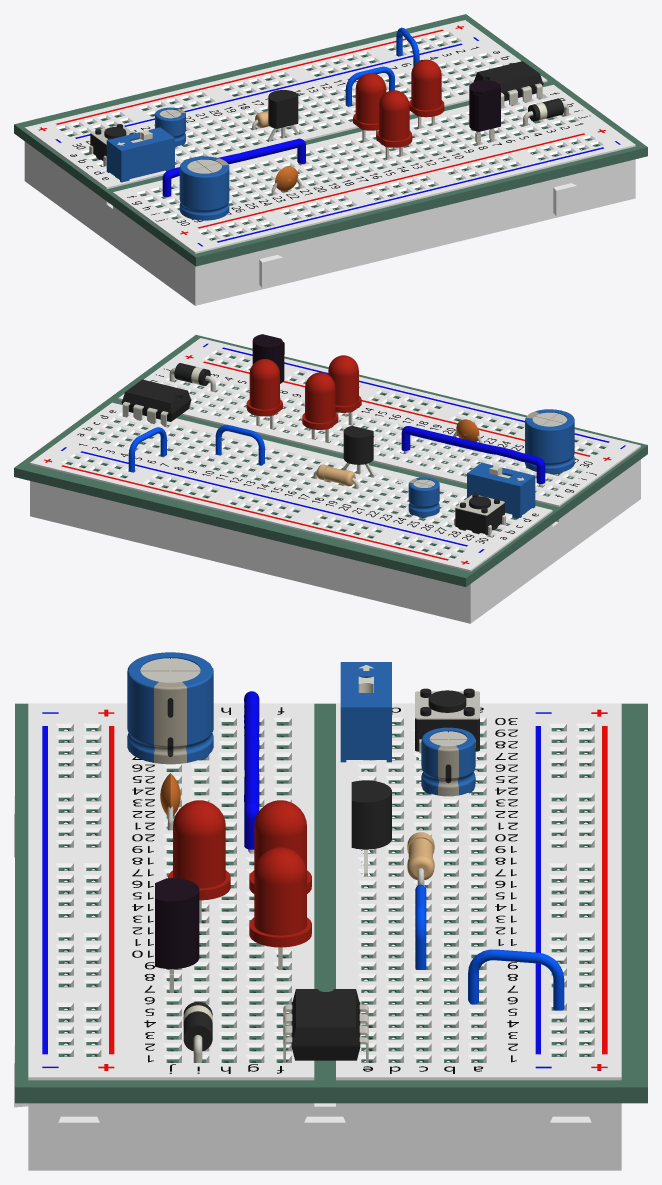
3 renders of one model, top to bottom at view 1: azimuth 30°, elevation 25°; view 2: azimuth 150°, elevation 25°; view 3: azimuth 270°, elevation 25°, orthographic. The views are drawn at different scales.
Visible parts, largest first — view 1: HalfBreadboard001, randomstuff_PCB, HalfBreadboard, CP_Radial_D80mm_P380mm, SW_DIP_SPSTx01_Slide_978x472mm_W762mm_P254mm, DIP-8_W7.62mm, LED_D5.0mm004, LED_D5.0mm, Osram_SFH205, LED_D5.0mm002, wire_25mm_Blue, TO-92_Inline_Wide (+6 smaller); view 2: HalfBreadboard001, randomstuff_PCB, HalfBreadboard, CP_Radial_D80mm_P380mm, SW_DIP_SPSTx01_Slide_978x472mm_W762mm_P254mm, DIP-8_W7.62mm, LED_D5.0mm, LED_D5.0mm002, wire_25mm_Blue, SW_PUSH_6mm_h4.3mm, LED_D5.0mm004, TO-92_Inline_Wide (+7 smaller); view 3: HalfBreadboard001, randomstuff_PCB, CP_Radial_D80mm_P380mm, HalfBreadboard, DIP-8_W7.62mm, LED_D5.0mm, SW_DIP_SPSTx01_Slide_978x472mm_W762mm_P254mm, LED_D5.0mm004, Osram_SFH205, CP_Radial_D50mm_P250mm, SW_PUSH_6mm_h4.3mm, TO-92_Inline_Wide (+7 smaller).
Boxes of the visible parts, bbox=[...] form: HalfBreadboard001: bbox=[24, 20, 635, 300]; randomstuff_PCB: bbox=[14, 14, 647, 266]; HalfBreadboard: bbox=[24, 176, 635, 305]; CP_Radial_D80mm_P380mm: bbox=[179, 156, 229, 220]; SW_DIP_SPSTx01_Slide_978x472mm_W762mm_P254mm: bbox=[106, 127, 174, 182]; DIP-8_W7.62mm: bbox=[473, 61, 543, 108]; LED_D5.0mm004: bbox=[376, 90, 412, 159]; LED_D5.0mm: bbox=[409, 59, 444, 128]; Osram_SFH205: bbox=[469, 80, 500, 145]; LED_D5.0mm002: bbox=[353, 73, 386, 142]; wire_25mm_Blue: bbox=[162, 138, 305, 198]; TO-92_Inline_Wide: bbox=[267, 90, 298, 141]; HalfBreadboard001: bbox=[30, 338, 640, 617]; randomstuff_PCB: bbox=[14, 335, 647, 586]; HalfBreadboard: bbox=[30, 493, 640, 623]; CP_Radial_D80mm_P380mm: bbox=[525, 409, 574, 474]; SW_DIP_SPSTx01_Slide_978x472mm_W762mm_P254mm: bbox=[467, 462, 535, 518]; DIP-8_W7.62mm: bbox=[121, 379, 191, 427]; LED_D5.0mm: bbox=[246, 359, 282, 428]; LED_D5.0mm002: bbox=[302, 372, 338, 442]; wire_25mm_Blue: bbox=[401, 426, 545, 486]; SW_PUSH_6mm_h4.3mm: bbox=[454, 493, 505, 536]; LED_D5.0mm004: bbox=[328, 355, 361, 425]; TO-92_Inline_Wide: bbox=[343, 426, 374, 477]; HalfBreadboard001: bbox=[14, 703, 621, 1166]; randomstuff_PCB: bbox=[15, 703, 647, 1103]; CP_Radial_D80mm_P380mm: bbox=[127, 652, 213, 764]; HalfBreadboard: bbox=[28, 1160, 621, 1170]; DIP-8_W7.62mm: bbox=[283, 989, 368, 1062]; LED_D5.0mm: bbox=[249, 847, 311, 969]; SW_DIP_SPSTx01_Slide_978x472mm_W762mm_P254mm: bbox=[340, 662, 391, 762]; LED_D5.0mm004: bbox=[168, 800, 230, 923]; Osram_SFH205: bbox=[155, 878, 199, 992]; CP_Radial_D50mm_P250mm: bbox=[421, 727, 475, 796]; SW_PUSH_6mm_h4.3mm: bbox=[415, 688, 479, 753]; TO-92_Inline_Wide: bbox=[351, 780, 391, 876].
Size of the model in its own units: 8.38 by 2.09 by 5.85.
